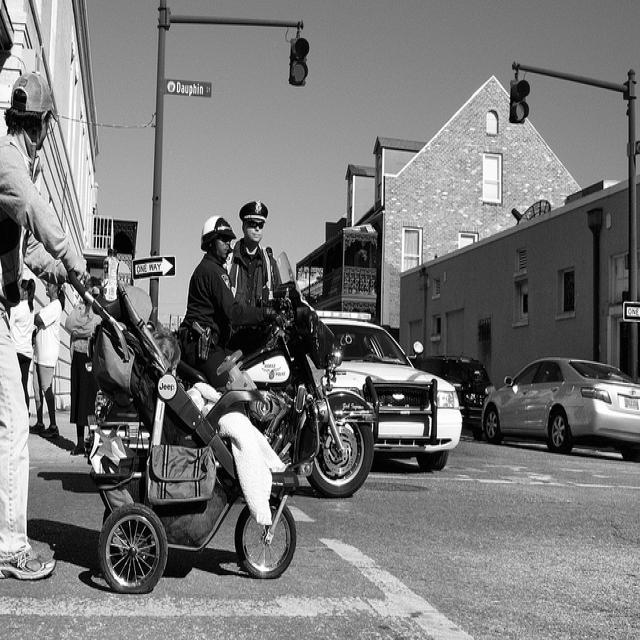motor: (88, 284, 369, 493)
